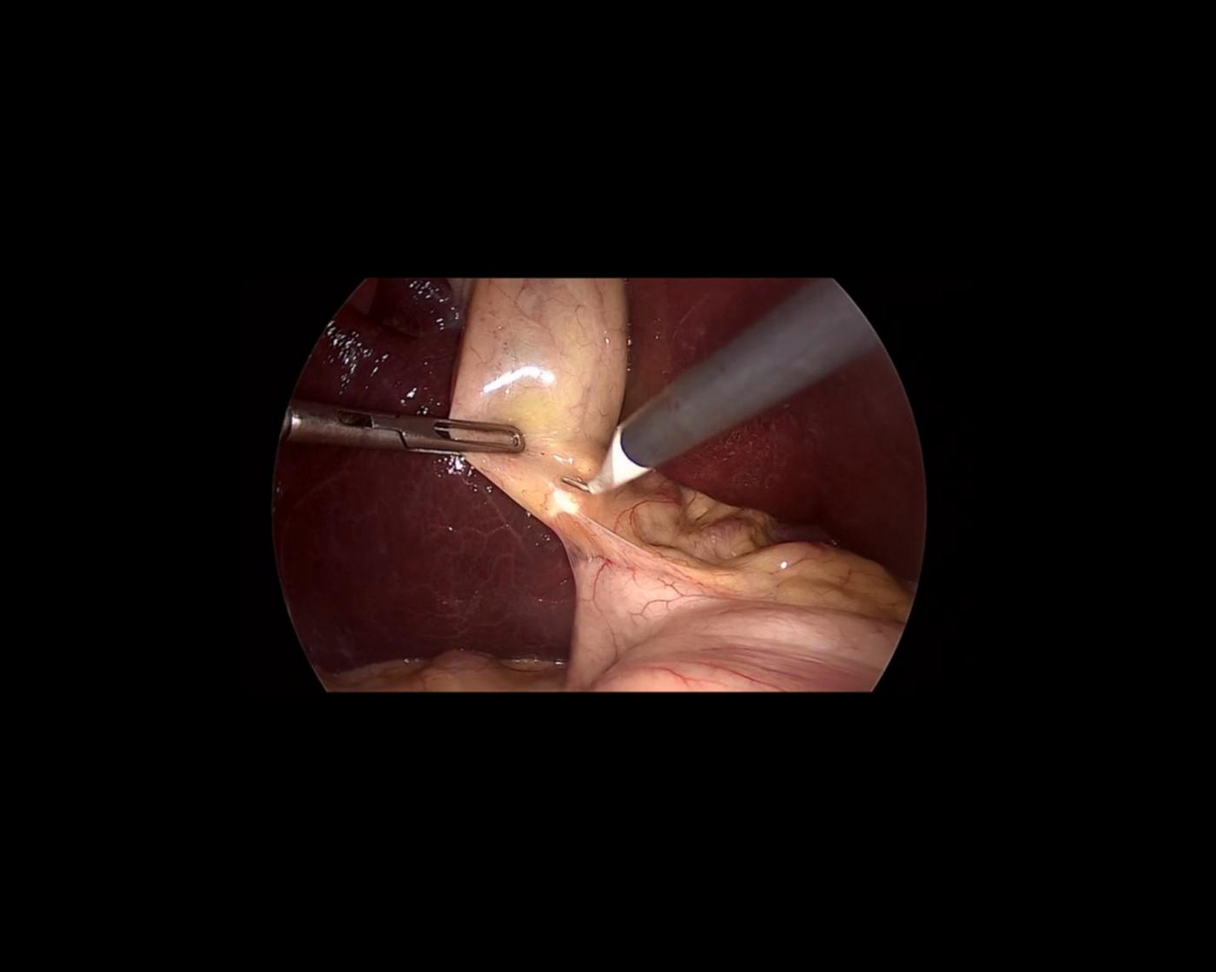Cautery: (533, 264, 883, 510)
Forceps: (282, 400, 529, 469)
Gallbladder: (424, 254, 668, 578)
Liver: (258, 267, 581, 678), (655, 290, 998, 593), (555, 188, 817, 424)
